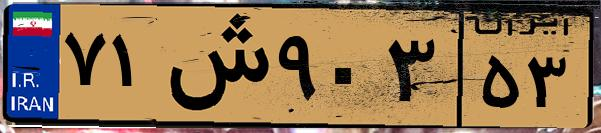0: (330, 28, 385, 110)
1: (110, 28, 158, 98)
3: (385, 28, 445, 110), (525, 38, 570, 115)
5: (475, 38, 525, 113)
7: (57, 26, 110, 100)
9: (270, 28, 330, 110)
ش: (158, 12, 270, 120)
